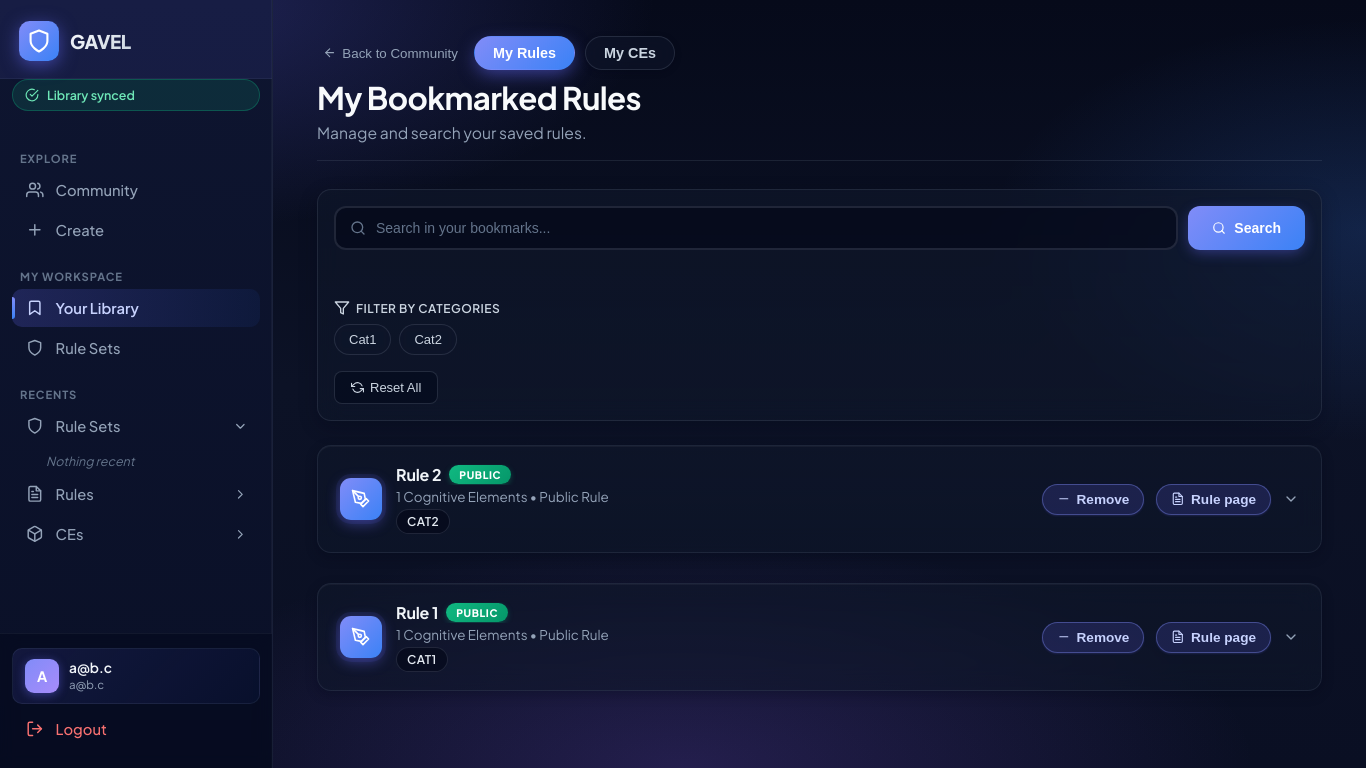
Scenario: BookmarksRules — SearchPanel reset › Reset All restores the full bookmark list and clears the search header
Expected: the heading "Rule 1 Public" is shown, [396, 602, 508, 623]
Type "xyz" into the field with placeholder "Search in your bookmarks..." at (764, 228), box [366, 208, 1162, 248]
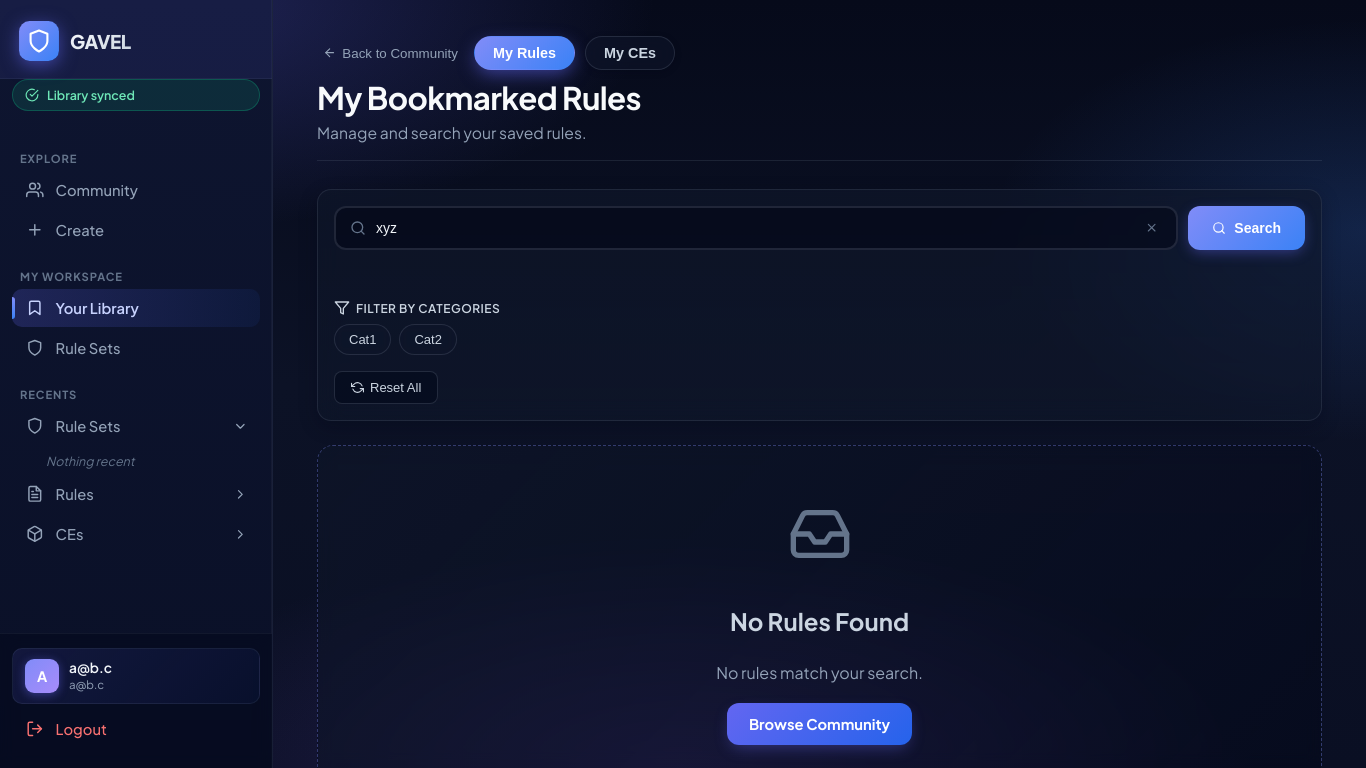
Click the button titled "Reset all filters" at (386, 388), box [334, 371, 438, 404]
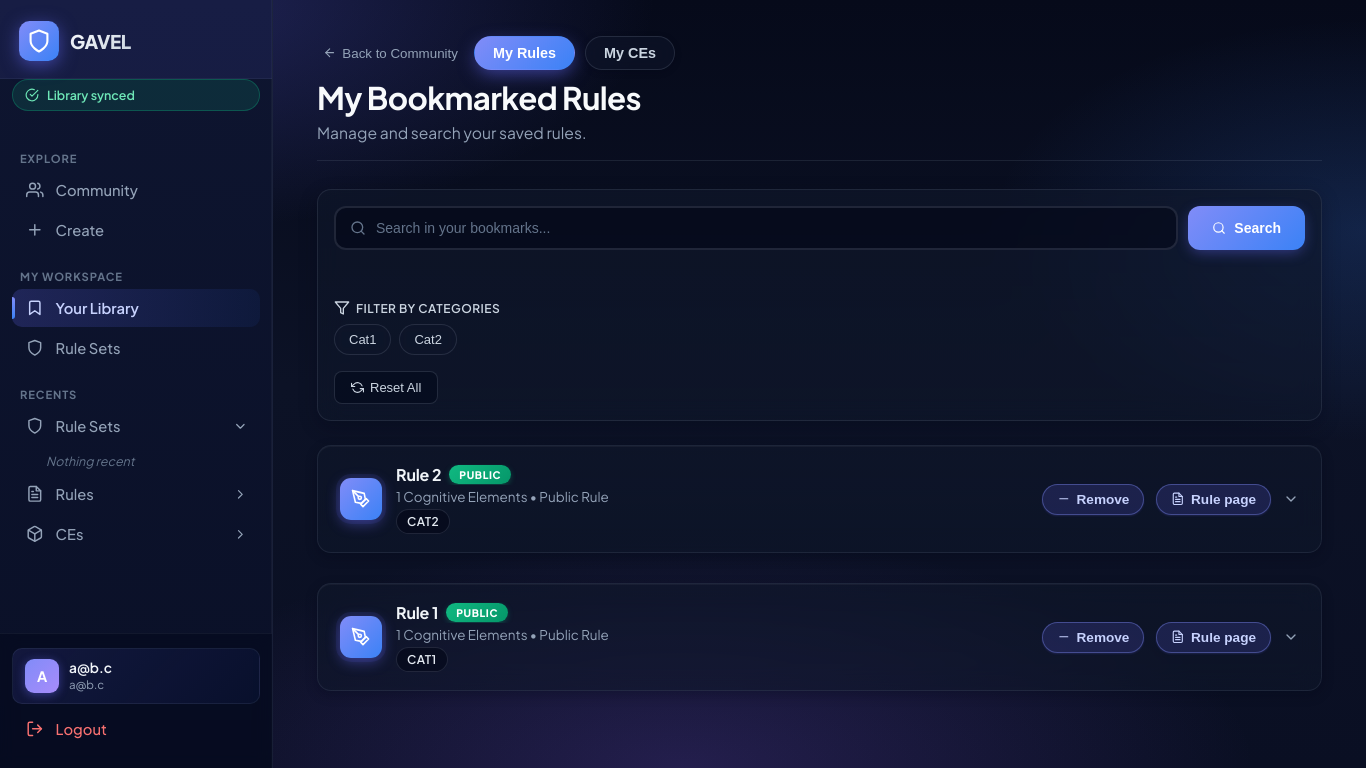
Expected: the heading "Rule 1 Public" is shown, [396, 602, 508, 623]
Expected: the heading "Rule 2 Public" is shown, [396, 464, 511, 485]
